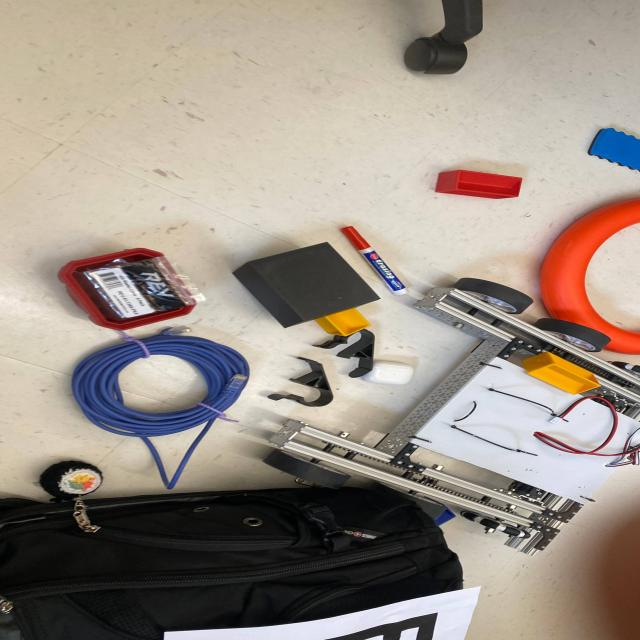red-specimen: (435, 170, 522, 199)
yellow-specimen: (522, 352, 600, 394), (315, 308, 370, 337)
